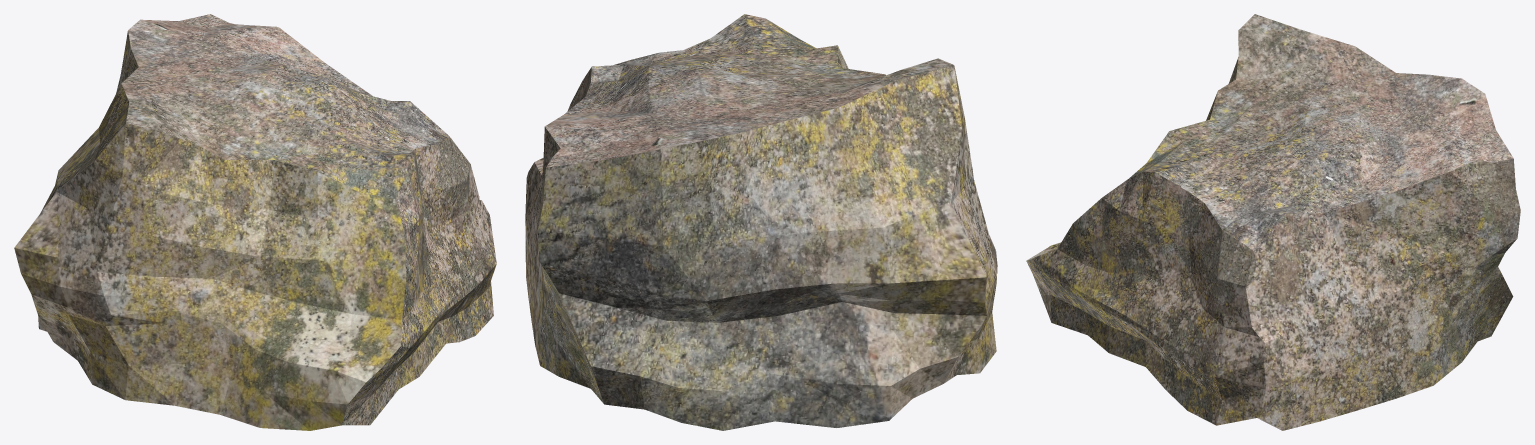
The model's file is Stone4.fbx.
3 views of the same model, side by side, from view 1: azimuth 30°, elevation 25°; view 2: azimuth 150°, elevation 25°; view 3: azimuth 270°, elevation 25° (orthographic). The views are drawn at different scales.
Visible parts, largest first — view 1: cupper; view 2: cupper; view 3: cupper.
Boxes of the visible parts, left/top/right/bottom form: cupper: left=14, top=14, right=496, bottom=430; cupper: left=525, top=14, right=997, bottom=430; cupper: left=1026, top=14, right=1520, bottom=430.
Bounding box in the file's own units: 77.29 × 46.06 × 79.25.
